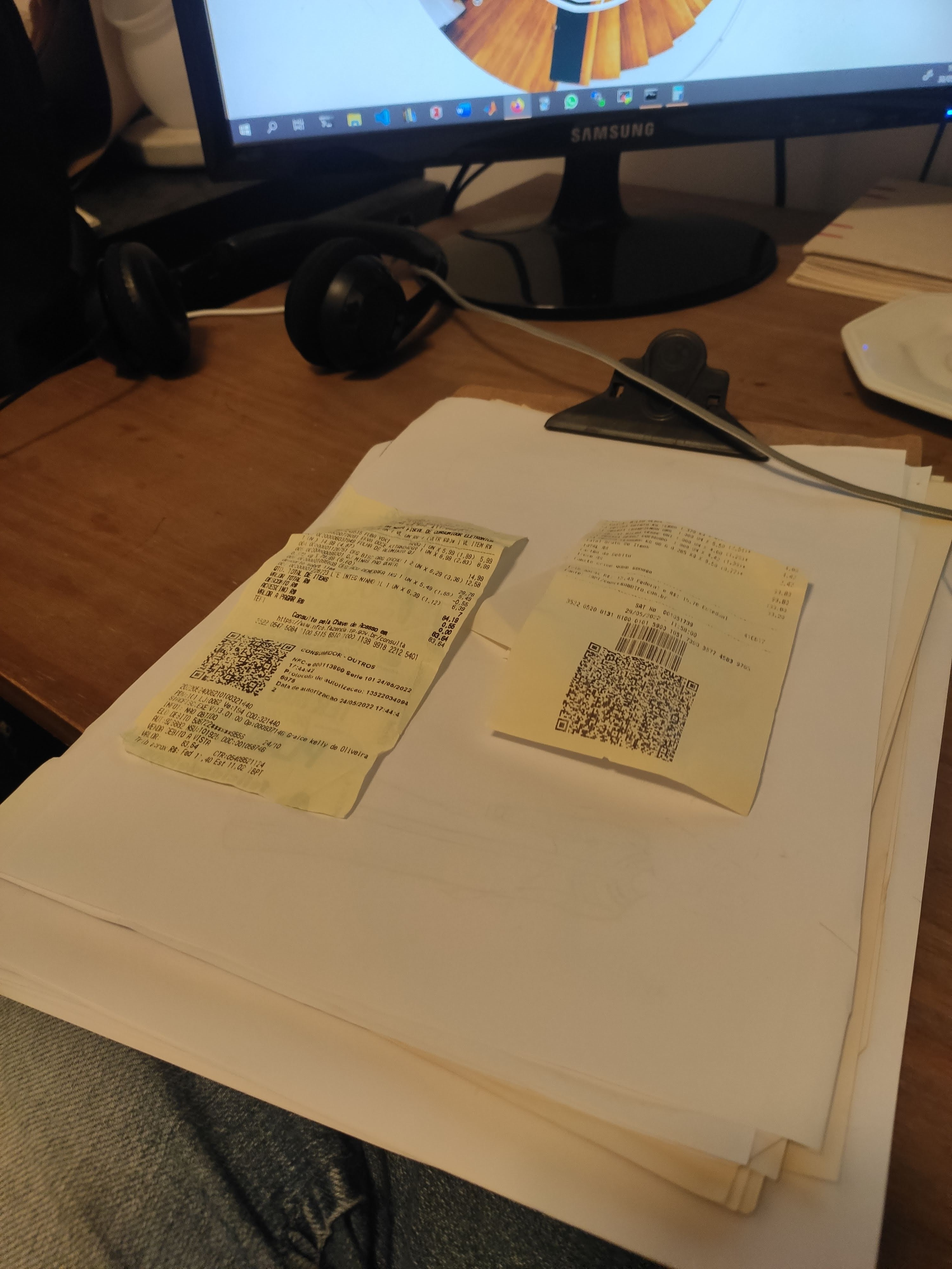QR-CODE: (555, 642, 699, 763), (189, 631, 295, 695)
